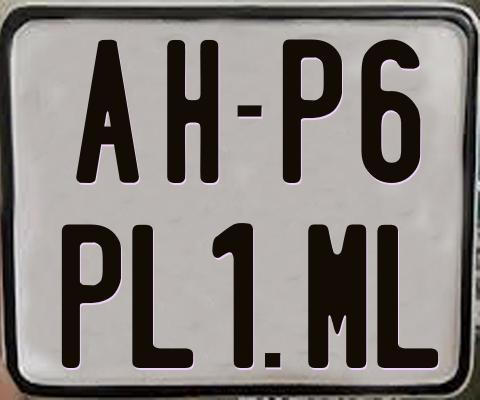1: (211, 220, 252, 371)
6: (360, 37, 421, 182)
A: (76, 37, 145, 181)
H: (165, 39, 216, 187)
L: (132, 225, 199, 370), (377, 223, 438, 367)
M: (306, 222, 368, 370)
P: (282, 39, 347, 187), (62, 223, 126, 371)
